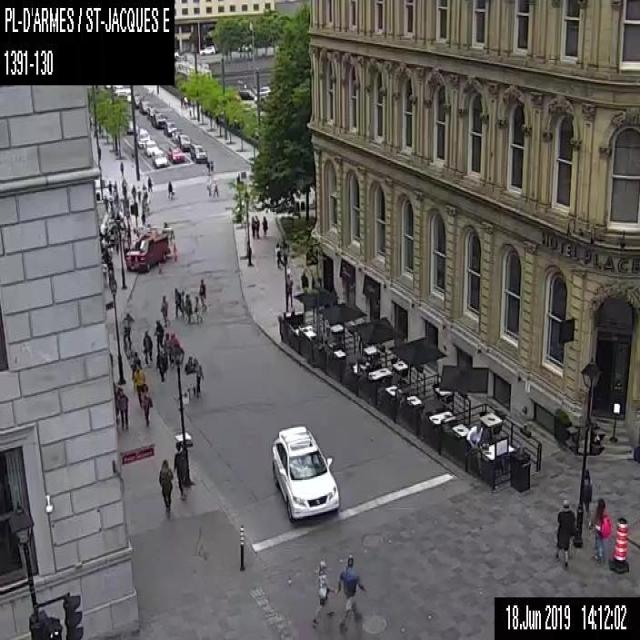construction: (608, 514, 628, 574)
pedestrian: (336, 552, 369, 630), (310, 557, 336, 629), (586, 496, 611, 565), (552, 498, 576, 568), (172, 440, 188, 500), (157, 458, 173, 514), (132, 362, 148, 407), (121, 312, 134, 352), (582, 468, 592, 517), (118, 386, 129, 430), (141, 327, 153, 365), (141, 390, 153, 427), (155, 348, 167, 383), (183, 355, 193, 397), (193, 355, 203, 396), (153, 319, 164, 354), (160, 294, 170, 326), (172, 287, 182, 318), (274, 238, 284, 268), (193, 294, 203, 324), (130, 351, 141, 378), (284, 271, 292, 308), (198, 277, 206, 309), (184, 293, 192, 323), (298, 266, 307, 292), (179, 288, 185, 317), (166, 179, 174, 199), (211, 178, 218, 197), (205, 176, 211, 196), (254, 214, 259, 238), (262, 214, 268, 234), (139, 209, 146, 225), (146, 173, 152, 191), (251, 214, 255, 238), (130, 184, 135, 201), (136, 185, 141, 202), (209, 160, 214, 177), (119, 160, 124, 177), (106, 179, 112, 192), (205, 160, 209, 176)
vehicle: (268, 423, 341, 520), (123, 225, 172, 275), (188, 142, 206, 162), (134, 127, 150, 148), (151, 148, 167, 168), (167, 145, 184, 163), (150, 112, 166, 128), (237, 86, 255, 100), (143, 140, 158, 156), (162, 120, 176, 137), (177, 132, 190, 150), (138, 99, 150, 114), (198, 44, 214, 55), (132, 93, 143, 108), (146, 105, 157, 119), (126, 119, 137, 133), (171, 127, 181, 142), (256, 86, 270, 96)
